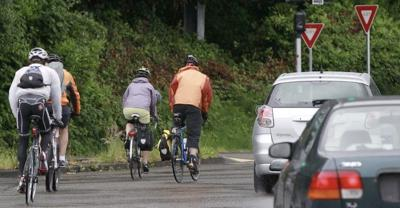With Helmet: (178, 51, 205, 69), (130, 64, 154, 82), (26, 46, 48, 65)
